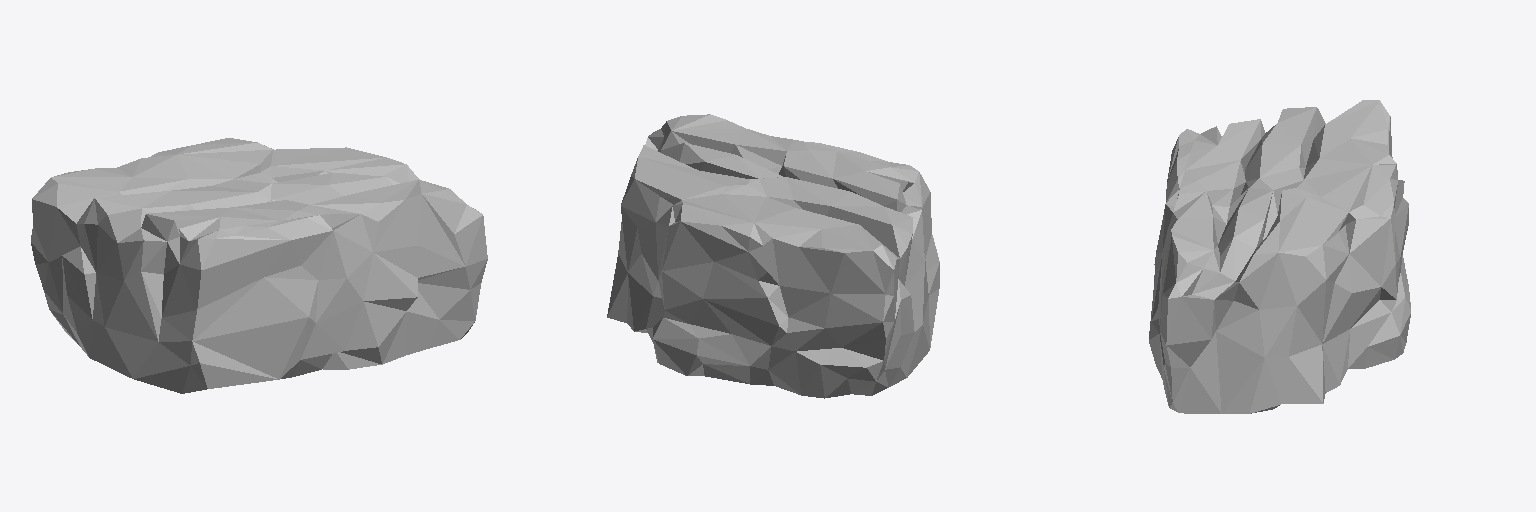
File: stone_6.obj
The picture shows the model from 3 angles: view 1: azimuth 30°, elevation 25°; view 2: azimuth 150°, elevation 25°; view 3: azimuth 270°, elevation 25°; orthographic projection.
Parts seen in each view (by area): view 1: Aset_nature_rock_M_uisjbbis_LOD5; view 2: Aset_nature_rock_M_uisjbbis_LOD5; view 3: Aset_nature_rock_M_uisjbbis_LOD5.
Part boxes in pixels (x1,y1,x2,y2): Aset_nature_rock_M_uisjbbis_LOD5: (31,138,487,393); Aset_nature_rock_M_uisjbbis_LOD5: (607,114,939,398); Aset_nature_rock_M_uisjbbis_LOD5: (1149,100,1410,413).
Size of the model in its own units: 1.19 by 0.5214 by 0.7759.